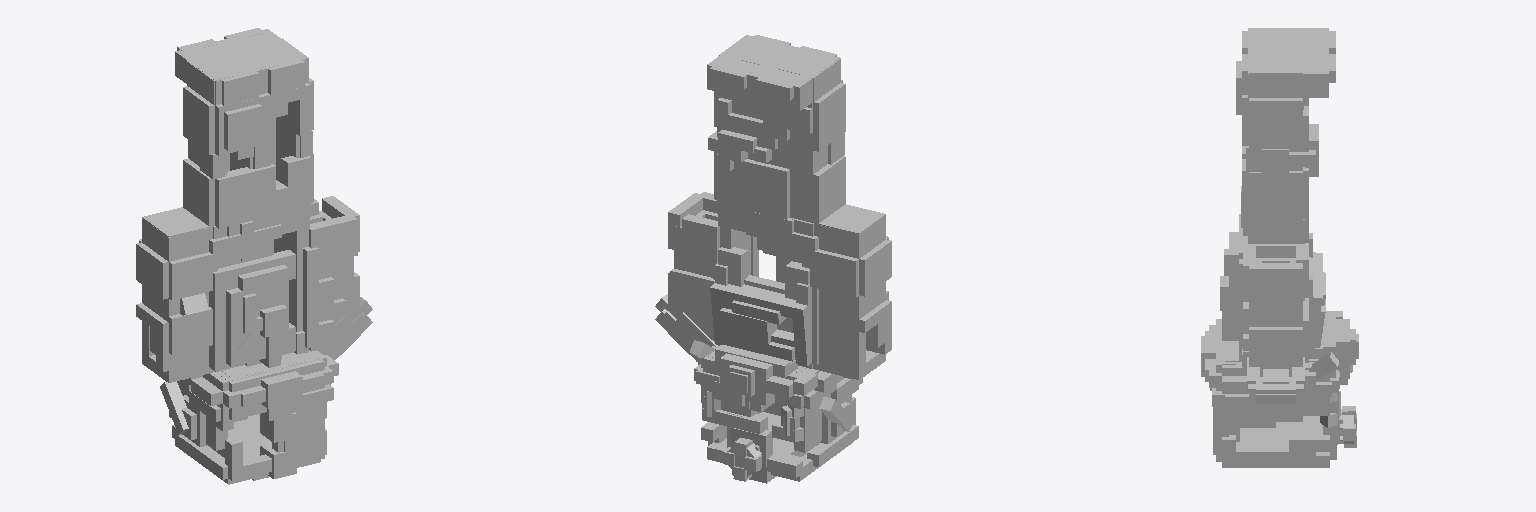
File: t60_full_broken.obj
3 views of the same model, side by side, from view 1: azimuth 30°, elevation 25°; view 2: azimuth 150°, elevation 25°; view 3: azimuth 270°, elevation 25° (orthographic).
Parts seen in each view (by area): view 1: Head, Body, RightArm, RightLeg, LeftArm, LeftLeg, RightBoot, LeftBoot; view 2: Head, Body, RightArm, RightLeg, LeftArm, LeftLeg, RightBoot, LeftBoot; view 3: Head, LeftArm, LeftLeg, Body, LeftBoot, RightBoot.
Boxes of the visible parts, x1,y1,x2,y2 form: Head: [160, 350, 338, 484]; Body: [209, 207, 318, 371]; RightArm: [136, 207, 217, 382]; RightLeg: [183, 86, 265, 228]; LeftArm: [309, 196, 372, 359]; LeftLeg: [263, 78, 313, 216]; RightBoot: [175, 39, 261, 105]; LeftBoot: [222, 28, 308, 94]; Head: [690, 340, 862, 483]; Body: [710, 204, 818, 368]; RightArm: [810, 204, 891, 379]; RightLeg: [763, 80, 845, 223]; LeftArm: [655, 192, 719, 364]; LeftLeg: [708, 91, 771, 213]; RightBoot: [753, 46, 840, 114]; LeftBoot: [707, 35, 793, 99]; Head: [1201, 311, 1358, 467]; LeftArm: [1242, 243, 1308, 403]; LeftLeg: [1242, 95, 1318, 221]; Body: [1220, 186, 1325, 362]; LeftBoot: [1242, 51, 1335, 109]; RightBoot: [1242, 28, 1335, 53].
Size of the model in its own units: 18.71 by 33.03 by 11.8.